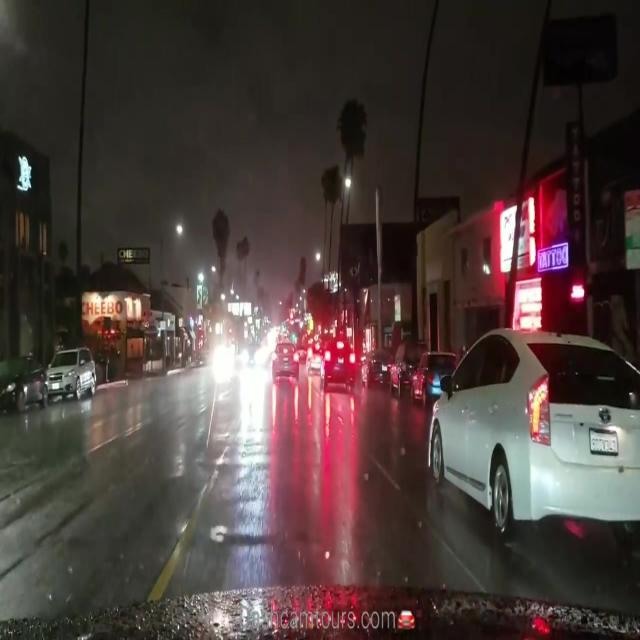Car: (427, 326, 639, 537), (45, 345, 92, 397), (0, 356, 44, 409), (319, 337, 354, 387), (271, 342, 301, 379)
